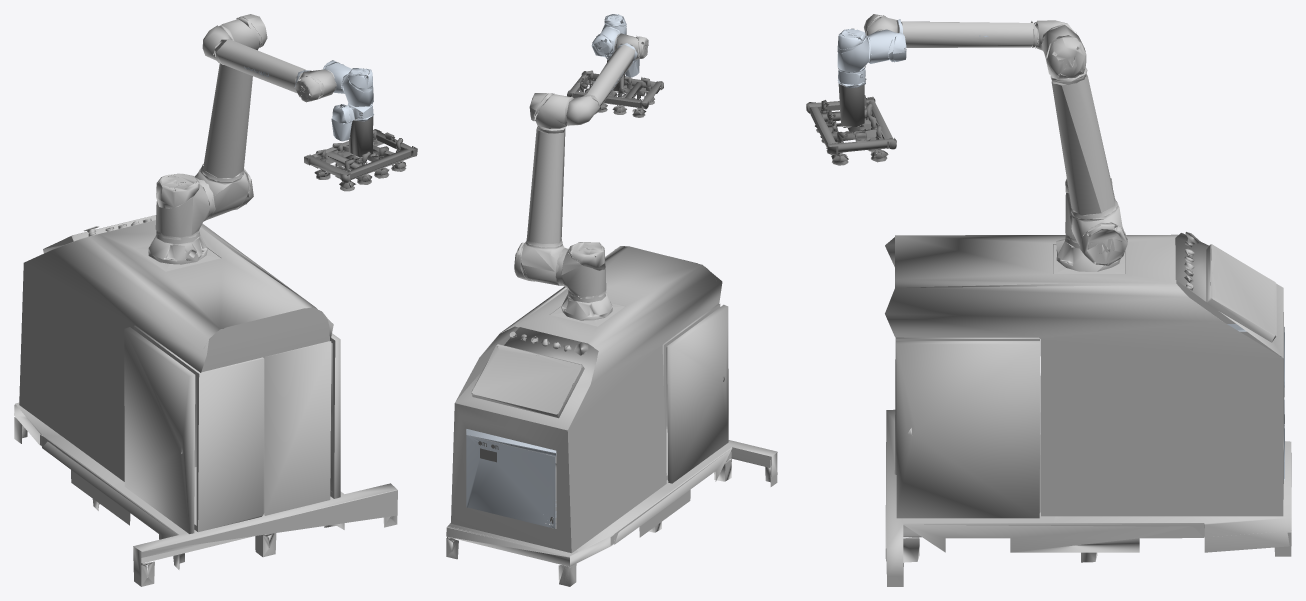
The picture shows the model from 3 angles, left to right: view 1: azimuth 30°, elevation 25°; view 2: azimuth 150°, elevation 25°; view 3: azimuth 270°, elevation 25°; orthographic projection. The views are drawn at different scales.
Parts seen in each view (by area): view 1: 00000.010.00.00.00_2.002; view 2: 00000.010.00.00.00_2.002; view 3: 00000.010.00.00.00_2.002.
Boxes of the visible parts, <box> form: 00000.010.00.00.00_2.002: <box>14,14,417,586</box>; 00000.010.00.00.00_2.002: <box>446,14,777,586</box>; 00000.010.00.00.00_2.002: <box>806,14,1291,586</box>.
Bounding box in the file's own units: 1013 × 1795 × 1500.
